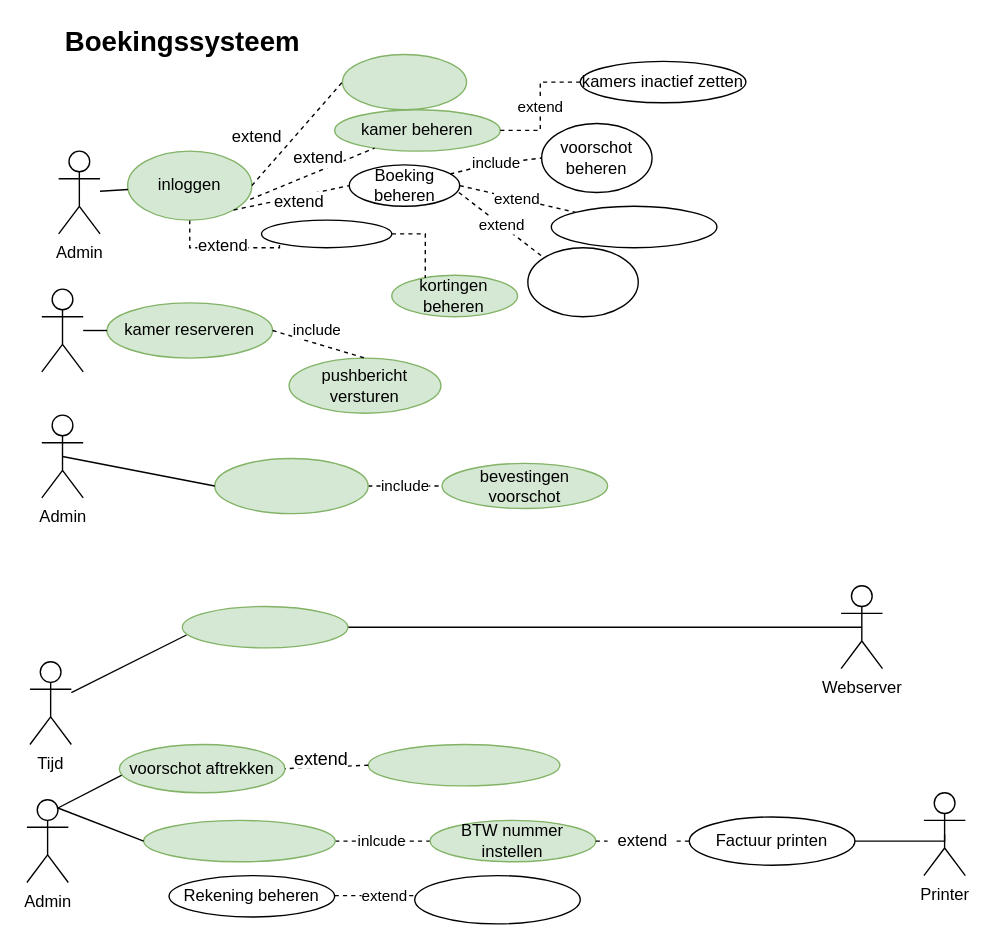
This 992x948 diagram has some shape labels left out. Here are the shapes that lost their labels. From the top down, the box of each, then its label:
(341, 53, 467, 110): gast boeken
(260, 219, 392, 248): Prijzen beheren
(550, 205, 717, 248): Boeking annuleren
(526, 246, 638, 317): uitchecking bevestigen
(40, 288, 83, 372): klant
(213, 457, 368, 514): voorschot aanvragen
(181, 605, 348, 648): Welkoms mail
(367, 743, 560, 786): additionele kosten aanrekenen
(142, 819, 335, 862): Factuur beheren
(413, 874, 580, 924): rekening printen
